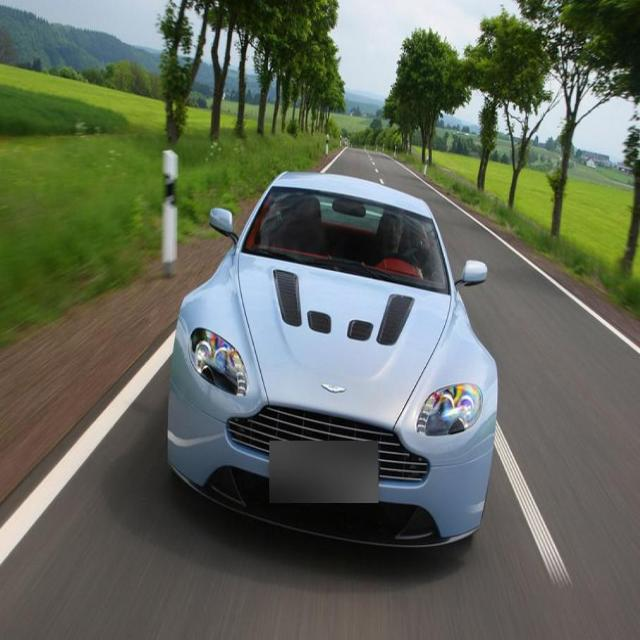front_bumper: (162, 381, 486, 546)
front_glass: (240, 181, 456, 295)
front_left_side_light: (413, 381, 482, 436)
front_left_side_mirror: (459, 256, 490, 292)
front_right_side_light: (186, 323, 250, 403)
front_right_side_mirror: (206, 202, 238, 240)
